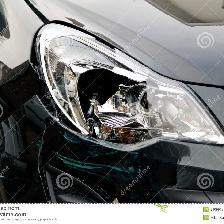broken_light: (68, 63, 100, 99)
